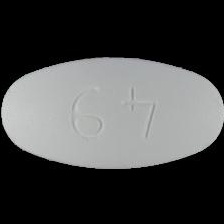0093-1049: (0, 0, 224, 224)
